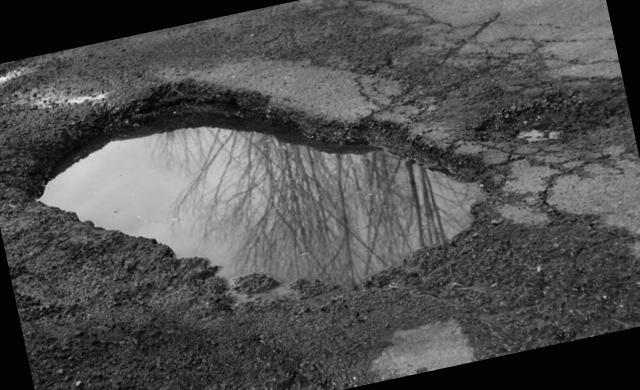Pothole: (0, 11, 530, 358), (466, 59, 631, 172)
